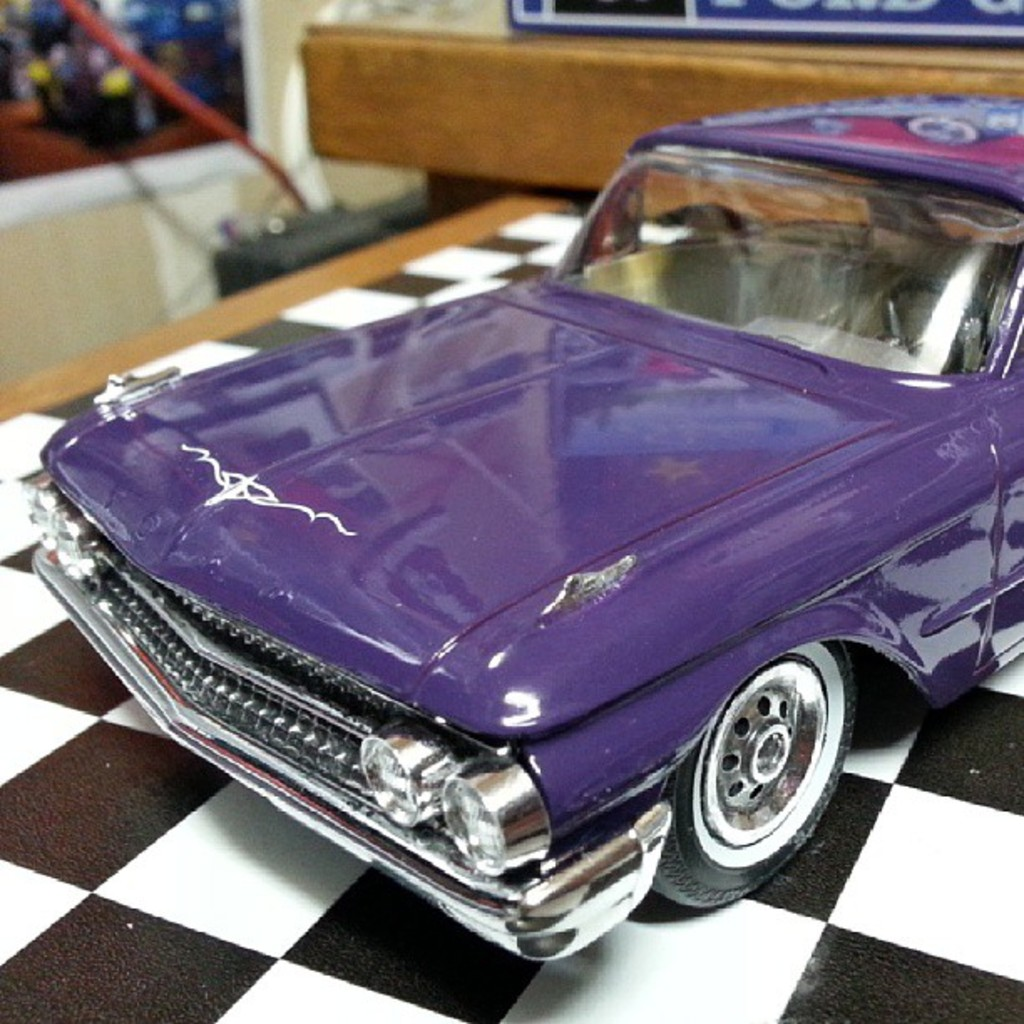mobil: (56, 79, 1024, 881)
